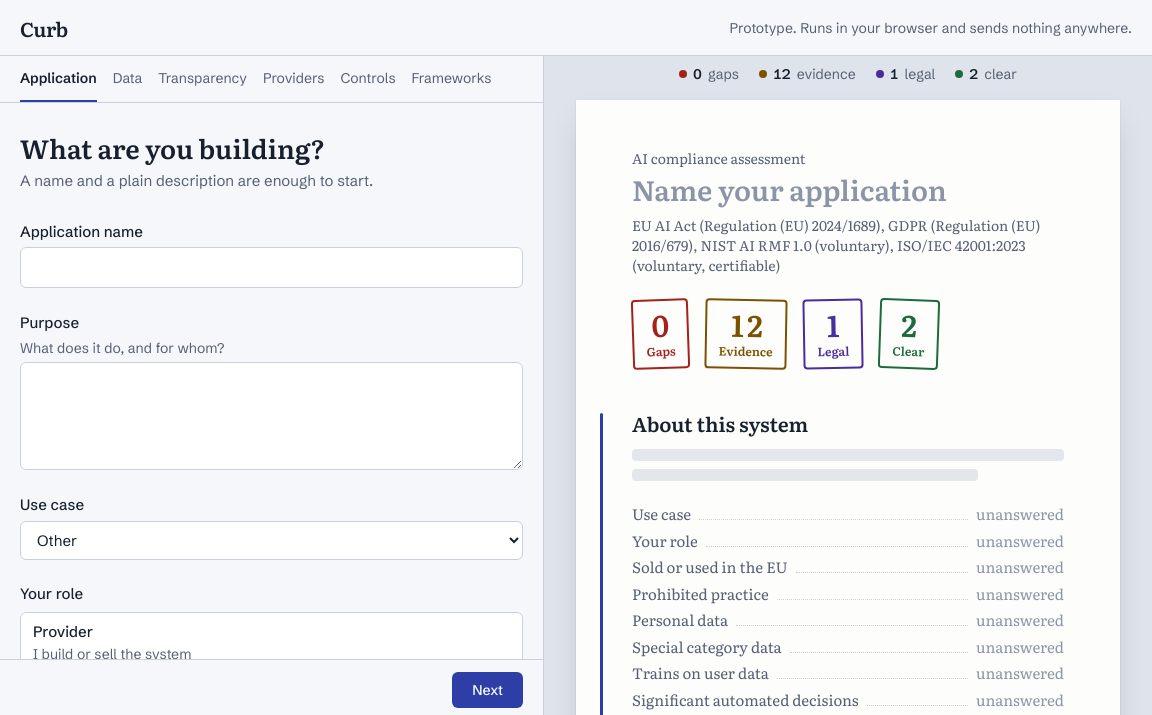
Test case: Workspace › downloads the PDF and surfaces a failure
Type "Hiring Screener" into the field labelled "Application name".
click(272, 267); type("Hiring Screener")  # box [20,247,523,288]
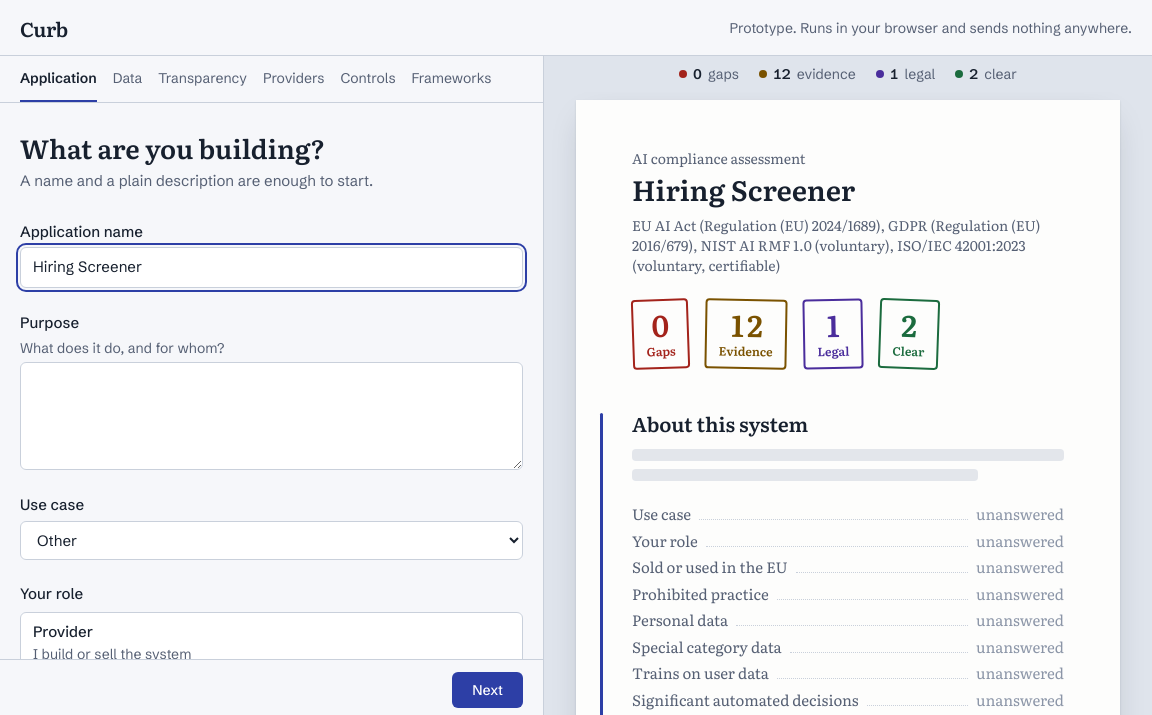
Click the button "Frameworks".
click(451, 79)  # box [412,56,491,102]
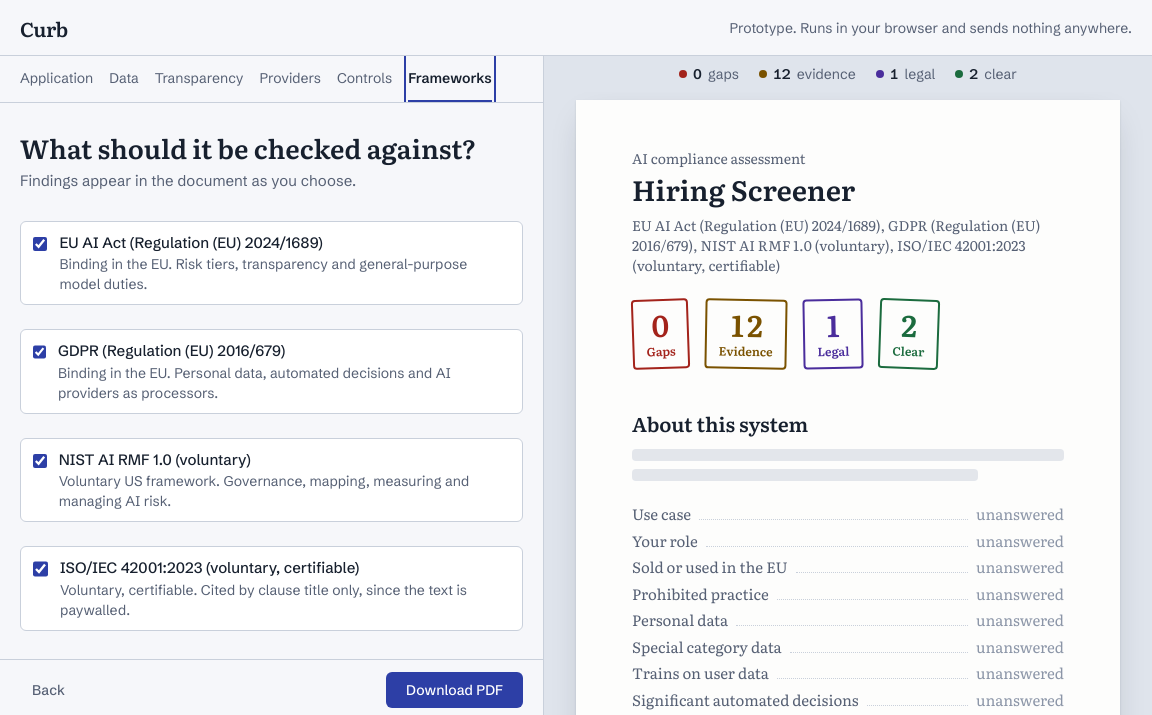
Click the button "Download PDF".
click(455, 690)  # box [386,672,523,708]
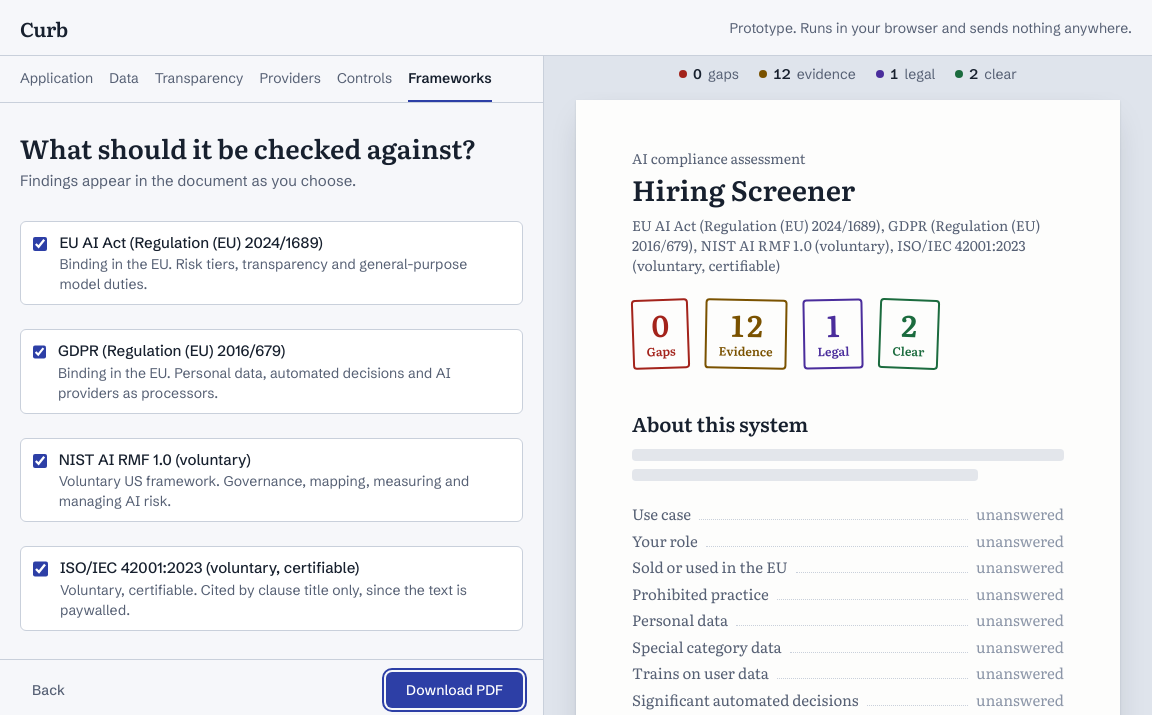
Expected: the heading "Hiring Screener" is shown, [632,168,855,210]
Click the button "Download PDF".
click(455, 690)  # box [386,672,523,708]
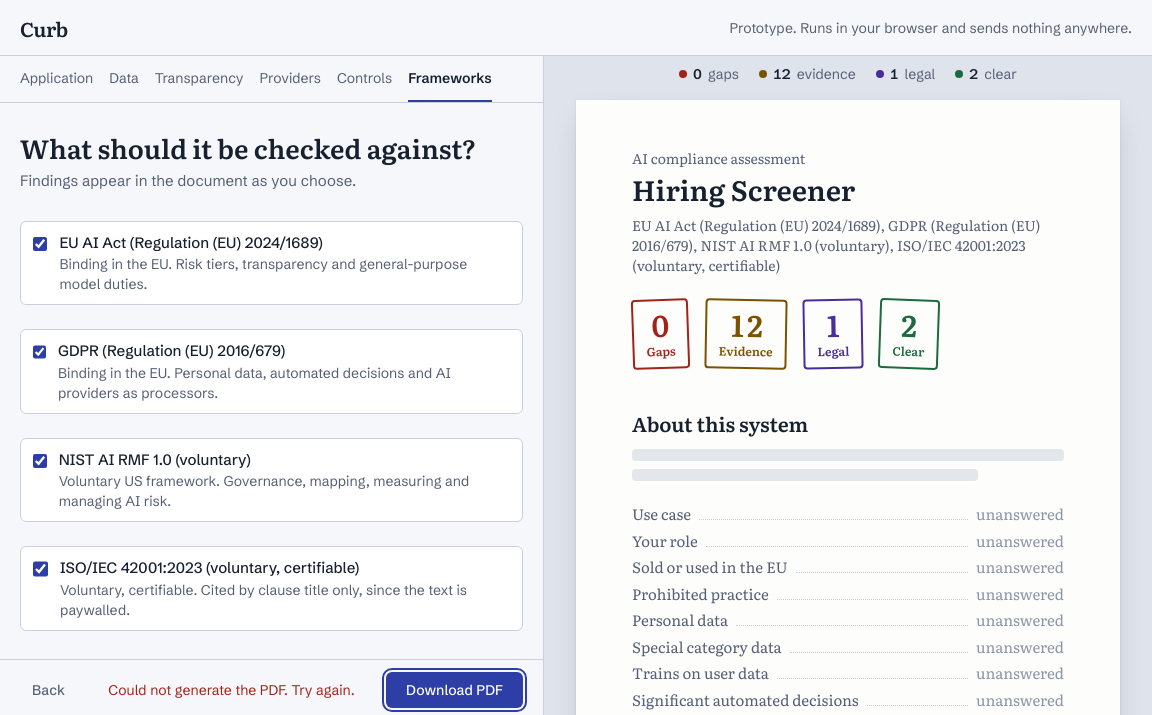
Expected: the message shows "Could not generate the PDF", [108,681,355,699]
